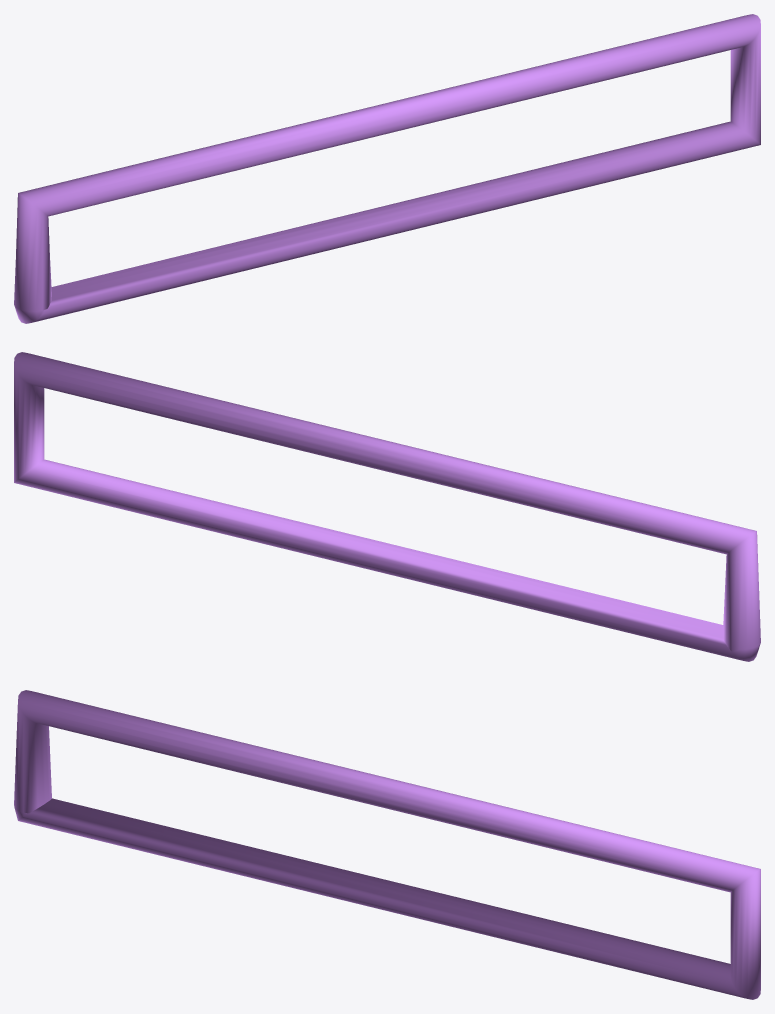
Rendered from wide-gate-D6Bqe51Q.glb.
The picture shows the model from 3 angles, top to bottom: view 1: azimuth 30°, elevation 25°; view 2: azimuth 150°, elevation 25°; view 3: azimuth 330°, elevation 25°; orthographic projection.
Parts seen in each view (by area): view 1: R3D_wide-gate_Body_0; view 2: R3D_wide-gate_Body_0; view 3: R3D_wide-gate_Body_0.
Boxes of the visible parts, bbox=[...] form: R3D_wide-gate_Body_0: bbox=[14, 14, 760, 323]; R3D_wide-gate_Body_0: bbox=[14, 352, 760, 661]; R3D_wide-gate_Body_0: bbox=[14, 690, 760, 999].
Size of the model in its own units: 5.3 by 0.8697 by 0.24.
